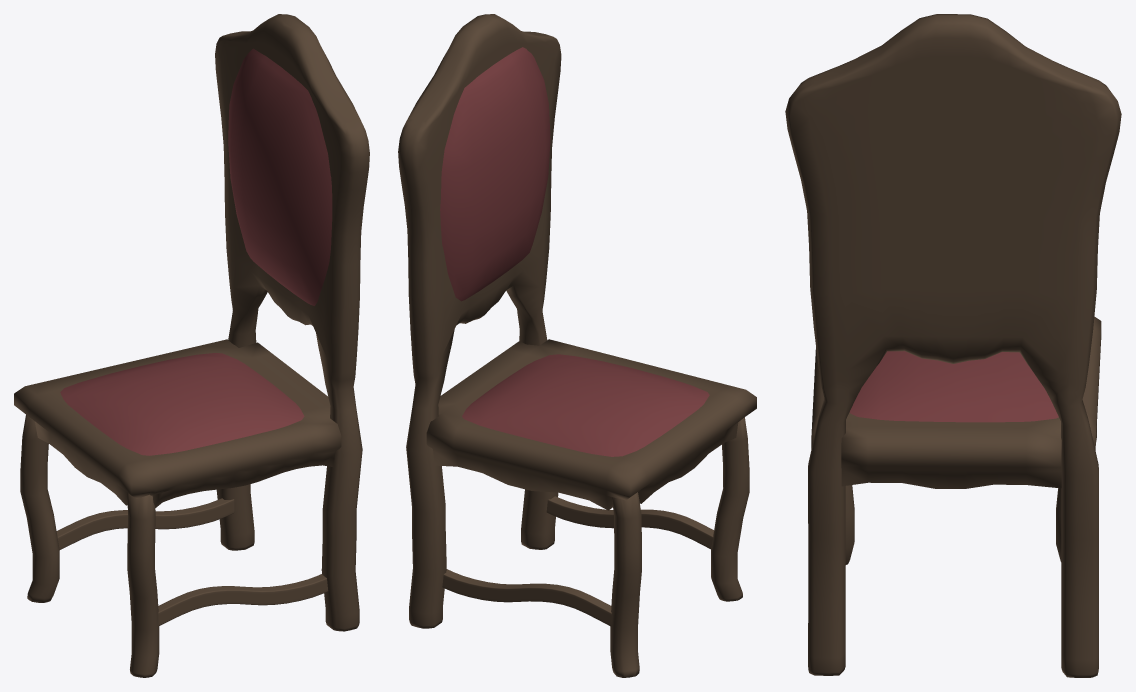
Rendered from Chair01.fbx.
3 views of the same model, side by side, from view 1: azimuth 30°, elevation 25°; view 2: azimuth 150°, elevation 25°; view 3: azimuth 270°, elevation 25° (orthographic). The views are drawn at different scales.
Visible parts, largest first — view 1: Chair01; view 2: Chair01; view 3: Chair01.
Part boxes in pixels (left/top/right/bottom): Chair01: left=14, top=14, right=369, bottom=677; Chair01: left=398, top=14, right=756, bottom=677; Chair01: left=785, top=14, right=1121, bottom=677.
Size of the model in its own units: 57.26 by 130 by 60.06.
